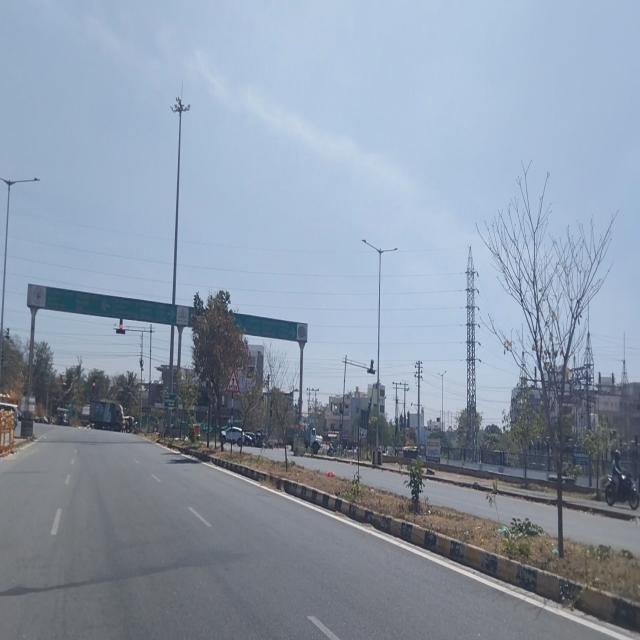bien_cam: (226, 368, 240, 394)
